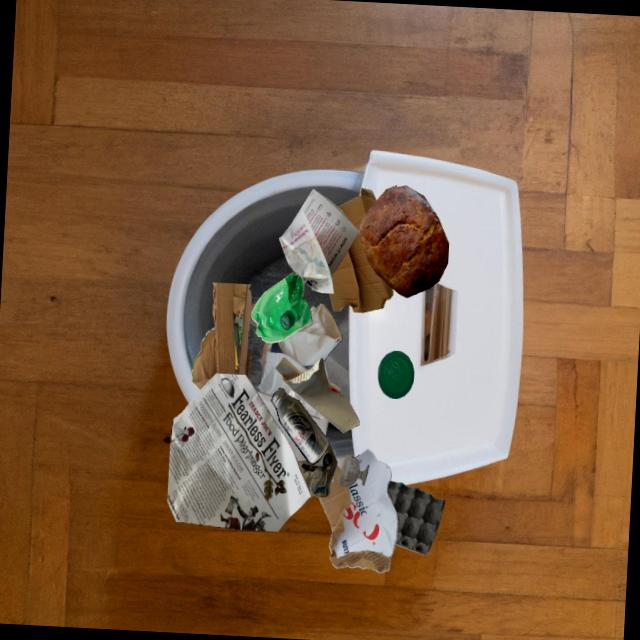biowaste: (359, 185, 449, 298)
cardboard: (319, 449, 398, 573), (329, 188, 393, 313), (192, 282, 252, 391), (275, 357, 359, 433), (388, 481, 445, 555), (293, 272, 298, 275)
glass: (339, 455, 369, 487)
metal: (271, 388, 329, 464)
paper: (167, 373, 311, 532), (279, 189, 359, 294), (258, 303, 343, 396), (256, 390, 307, 462), (298, 438, 337, 498), (288, 390, 329, 437)
plastic: (251, 272, 312, 343), (378, 351, 414, 399)
